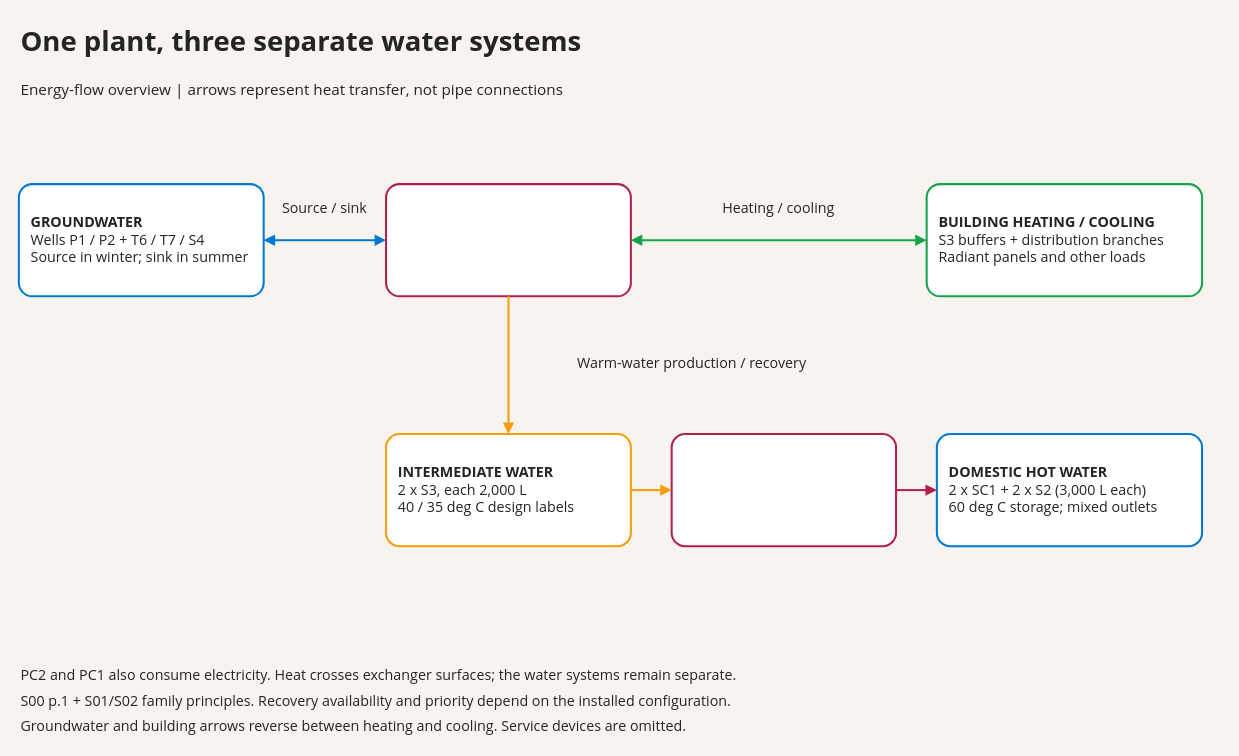
Image size: 1239x756. Some labels were removed from this diagram. The centre of each missing label's shape, as x and y in pixels:
"2 x PC2 | HiRef MSW Water-to-water heat pumps Building + intermediate circuits" belongs at [508,240].
"PC1 | HiRef KSW High-temperature heat pump 70 / 65 deg C primary loop" belongs at [783,489].
